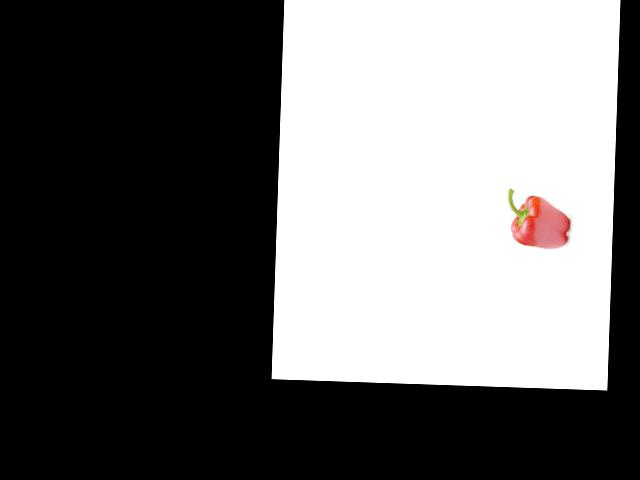bell_pepper: (502, 186, 575, 252)
